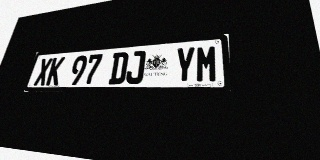7: (82, 54, 103, 85)
9: (68, 55, 88, 85)
D: (108, 52, 129, 84)
J: (125, 50, 146, 84)
K: (45, 57, 65, 85)
M: (195, 45, 218, 83)
X: (33, 58, 53, 86)
Y: (174, 46, 195, 83)
